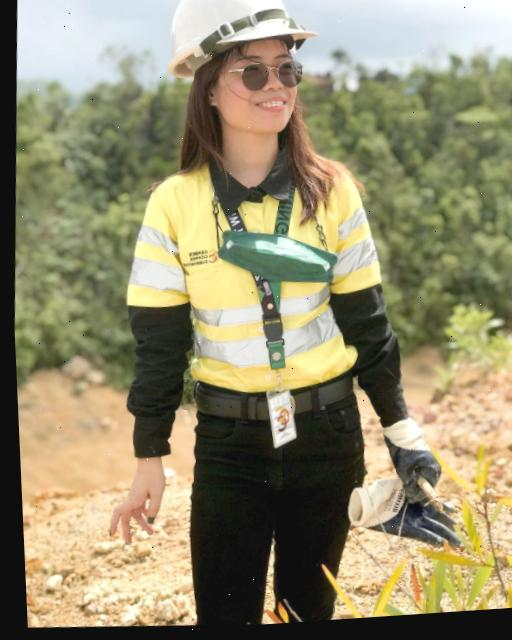helmet: (144, 0, 331, 86)
vest: (119, 138, 379, 405)
